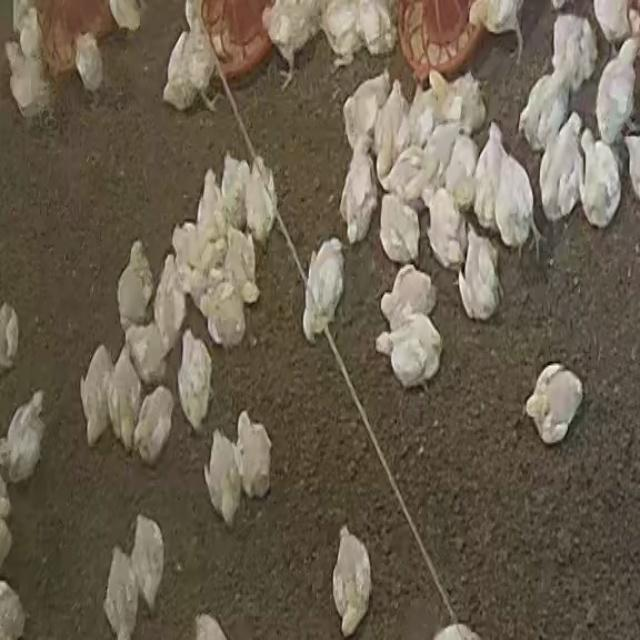chicken: (163, 16, 218, 113), (492, 136, 537, 253), (377, 312, 442, 392), (538, 115, 583, 226), (300, 238, 346, 346), (594, 37, 639, 147), (524, 365, 584, 444), (331, 526, 371, 638), (266, 1, 321, 80), (520, 68, 570, 152), (578, 132, 620, 229), (2, 391, 46, 482), (339, 141, 377, 245), (203, 429, 242, 529), (177, 329, 213, 435), (343, 71, 389, 152), (201, 277, 248, 354), (428, 68, 486, 130), (234, 409, 273, 500), (472, 123, 506, 226), (80, 345, 114, 446), (551, 14, 596, 90), (425, 189, 467, 270), (106, 348, 140, 448), (152, 254, 186, 354), (133, 385, 175, 465), (130, 518, 165, 614), (117, 240, 153, 332), (378, 191, 420, 269), (128, 316, 173, 388), (7, 41, 49, 118), (376, 270, 435, 324), (103, 546, 137, 638), (461, 232, 496, 321), (374, 80, 408, 170), (384, 143, 428, 207), (223, 225, 257, 302), (447, 130, 480, 208), (244, 157, 274, 240), (322, 0, 362, 62), (194, 170, 223, 254), (174, 222, 225, 267), (467, 0, 523, 37), (357, 0, 392, 57), (220, 153, 247, 221), (593, 0, 631, 46), (75, 32, 103, 94), (18, 5, 46, 56), (0, 303, 20, 373), (107, 0, 143, 35)
